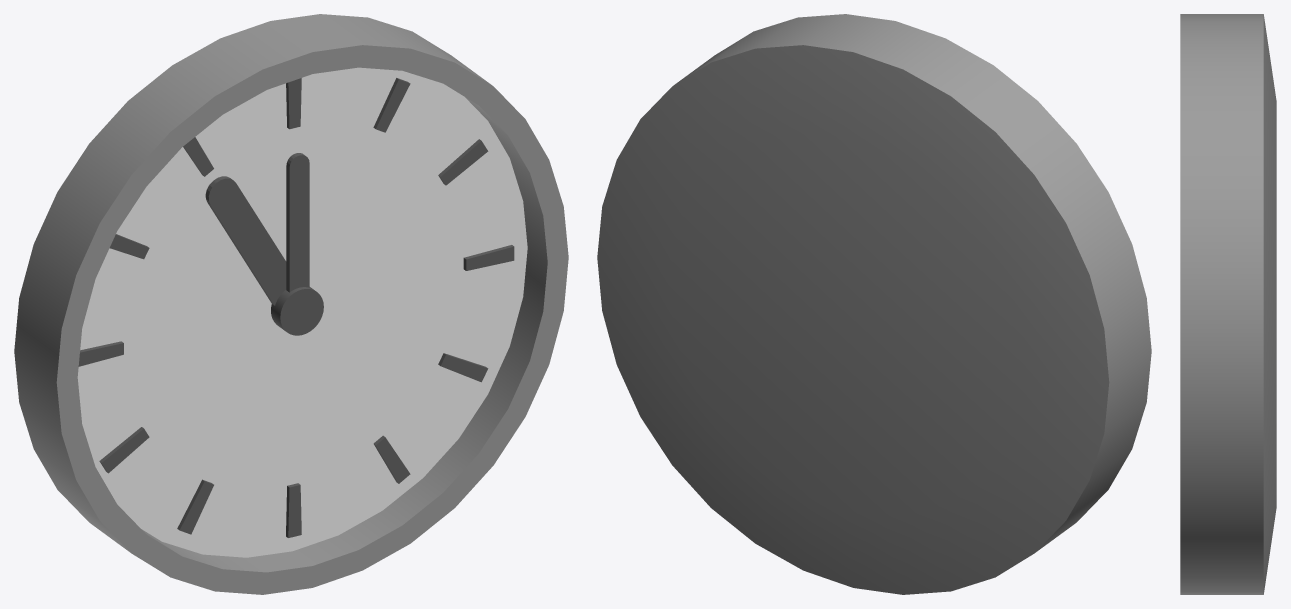
File: eleven_oclock.gltf
3 views of the same model, side by side, from view 1: azimuth 30°, elevation 25°; view 2: azimuth 150°, elevation 25°; view 3: azimuth 270°, elevation 25° (orthographic).
Parts seen in each view (by area): view 1: Circle.2495; view 2: Circle.2495; view 3: Circle.2495.
Boxes of the visible parts, left/top/right/bottom form: Circle.2495: left=14, top=14, right=568, bottom=594; Circle.2495: left=597, top=14, right=1151, bottom=594; Circle.2495: left=1180, top=14, right=1276, bottom=594.
Size of the model in its own units: 2.33 by 2.33 by 0.387.
Materials: 1 (1 with a texture image).
